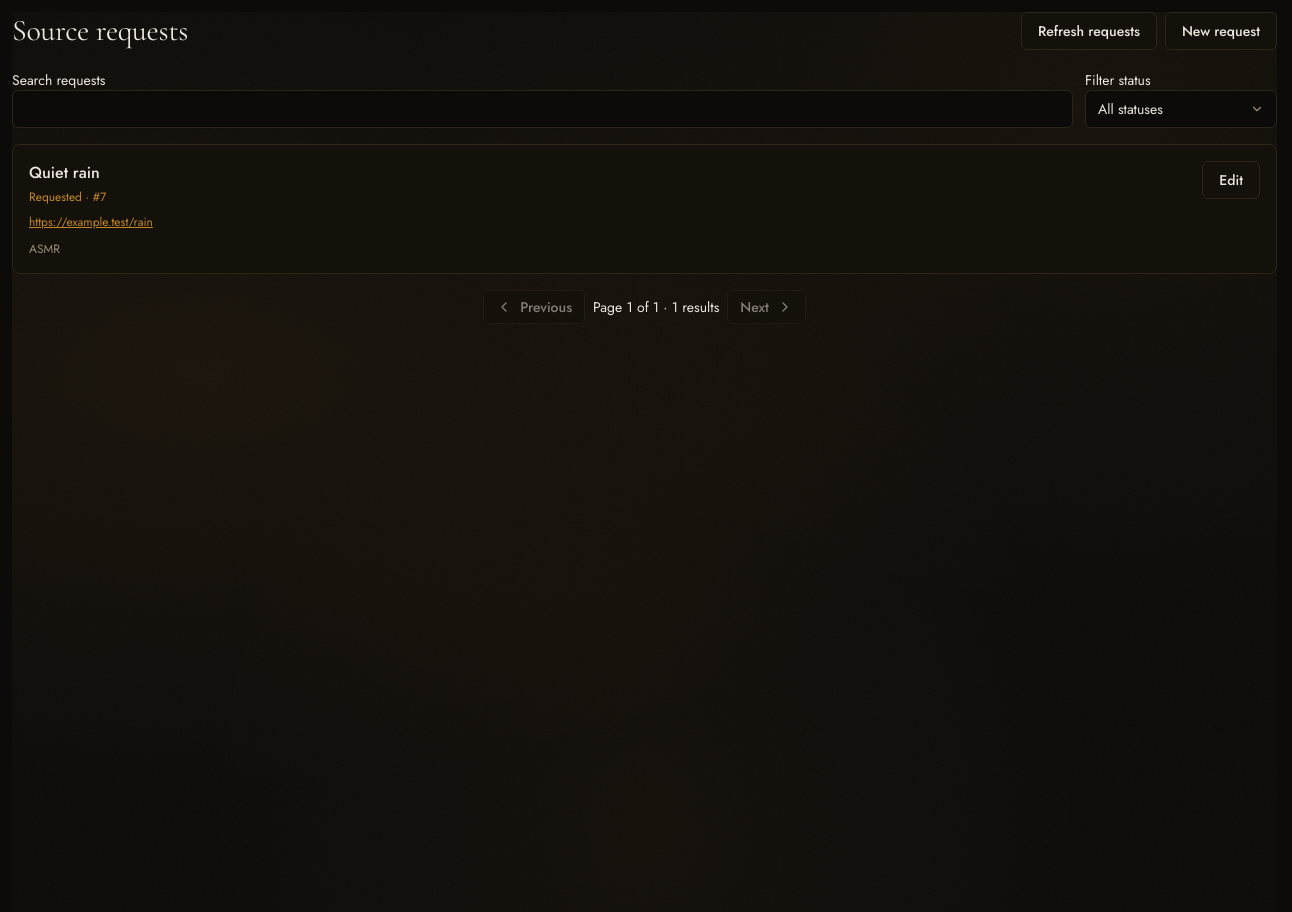
Test case: preserves request edits and displays server errors on failure
The width and height of the screenshot is (1292, 912).
Click the button with aria-label "Edit Quiet rain" at (1231, 180), box [1202,161,1260,199]
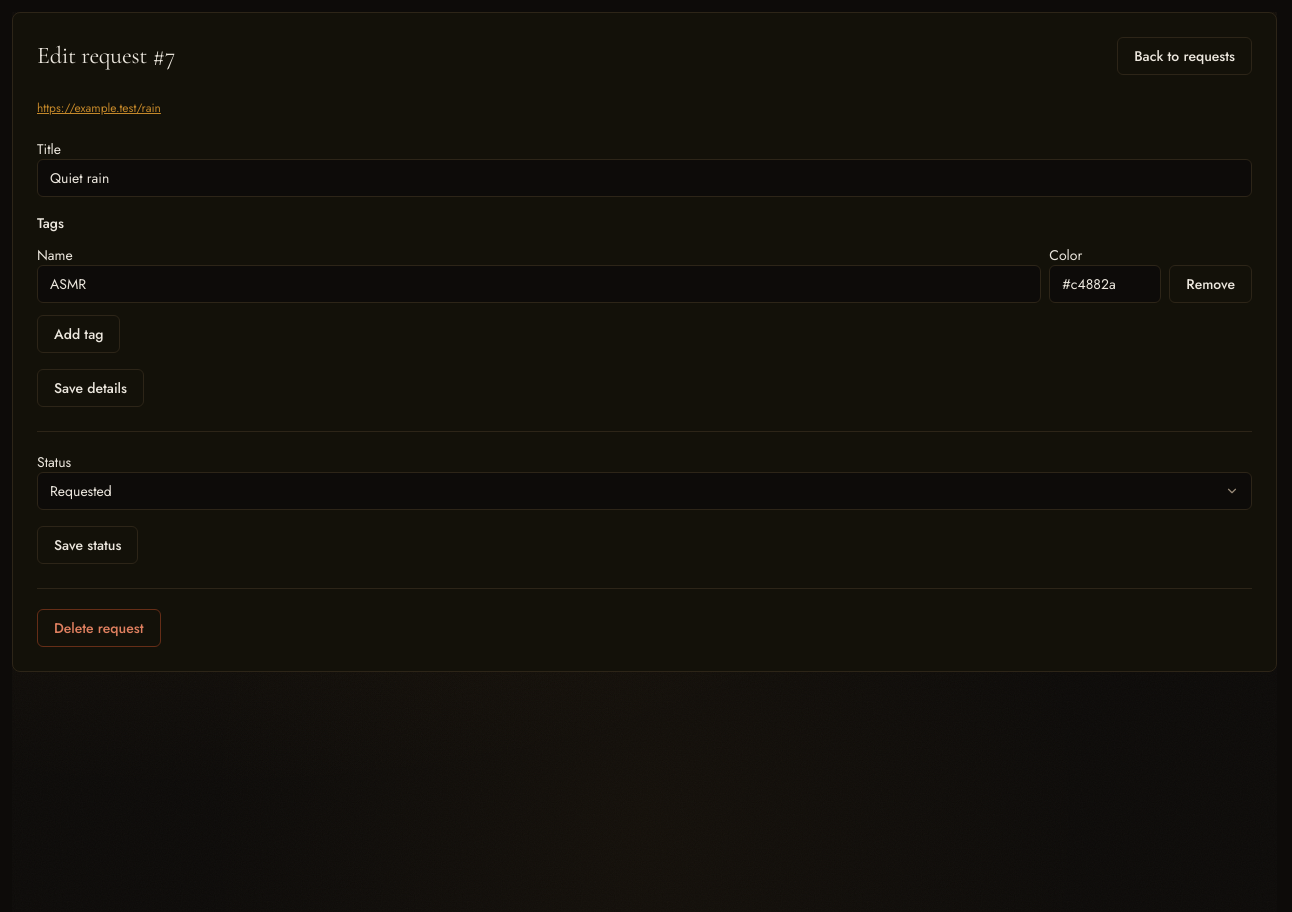
Replace the text in the field labelled "Title" with "Unsaved title" at (644, 178), box [37,159,1252,197]
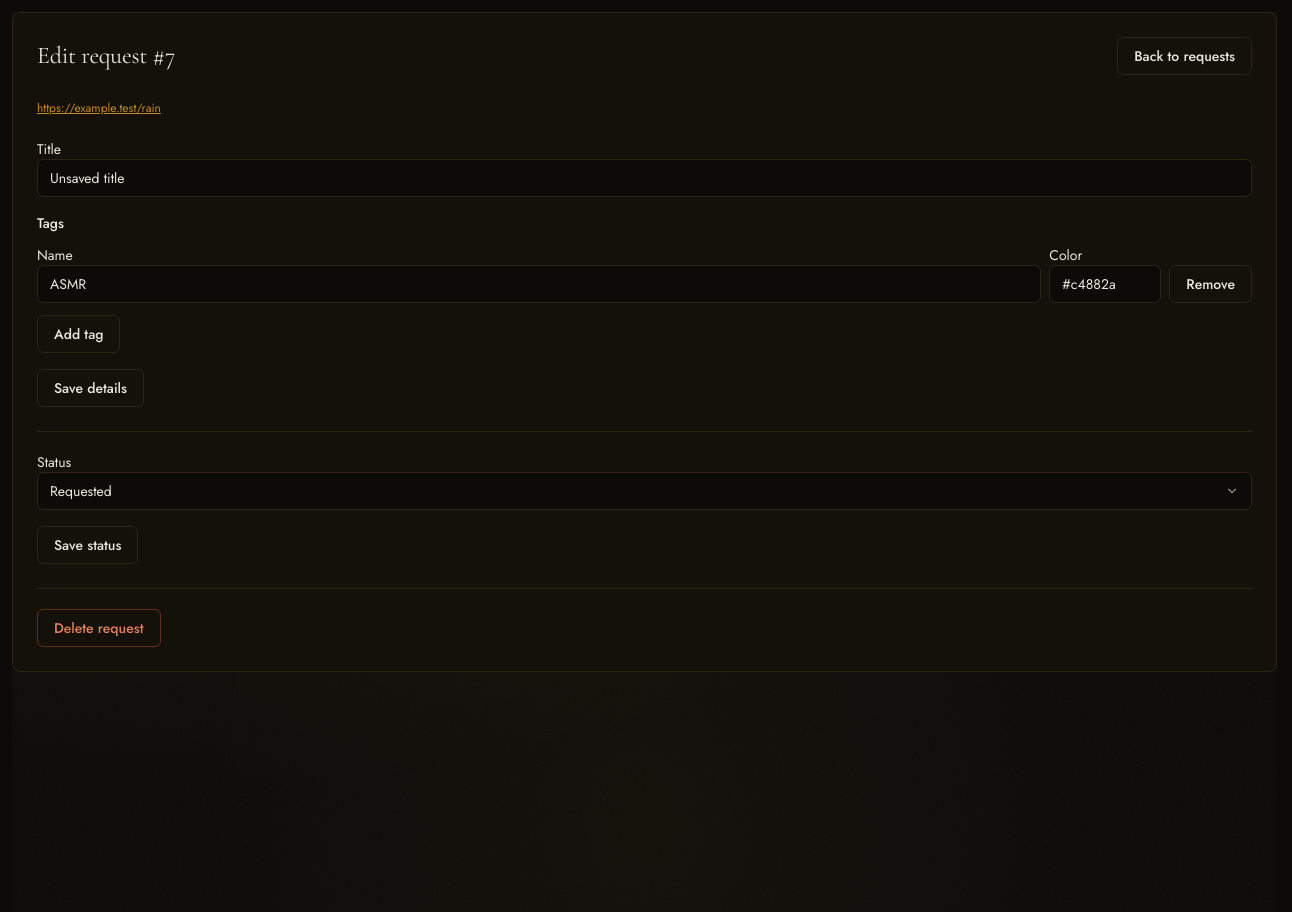
Click the button "Save details" at (90, 388), box [37,369,144,407]
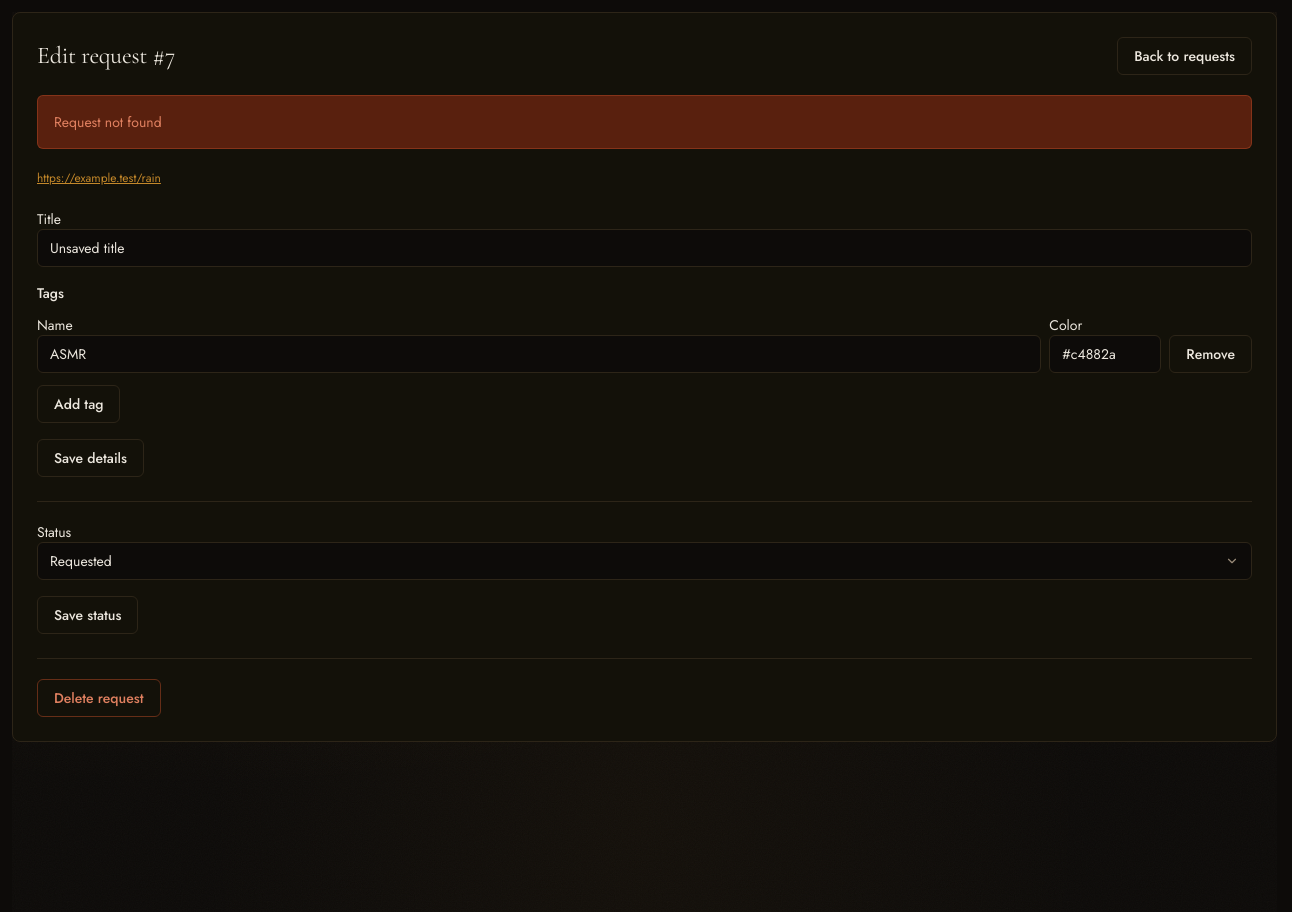
Result: the text "Request not found" is shown at [37,95,1252,149]
